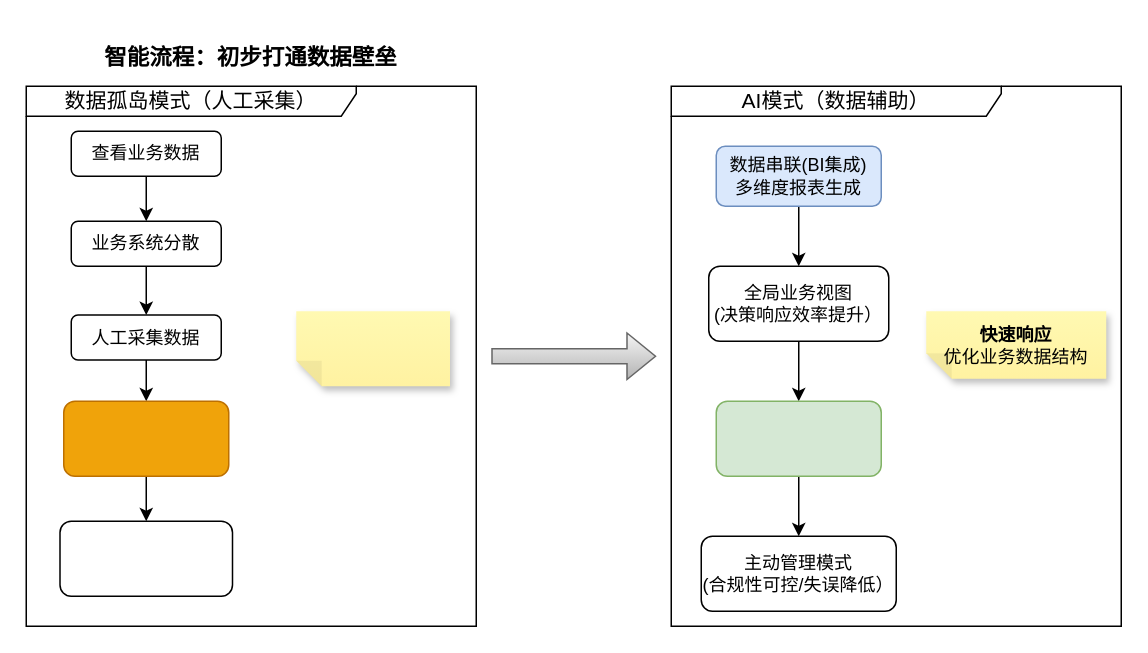
The diagram is 1148 pixels wide and 653 high, and some of its shapes have lost their labels. The centre of each missing label's shape, as x and y in pixels:
事后发现问题 (被动补救): point (145, 558)
人工核对数据 (依赖人工经验): point (145, 438)
出库 (储位优化推荐): point (798, 438)
痛点 人力工作量大 数据滞后: point (374, 350)
